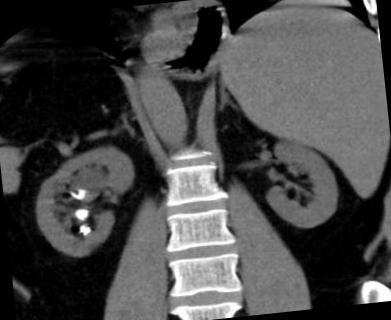Tas_Var: (70, 208, 90, 222), (68, 187, 84, 202), (76, 224, 90, 235), (82, 231, 86, 236)
